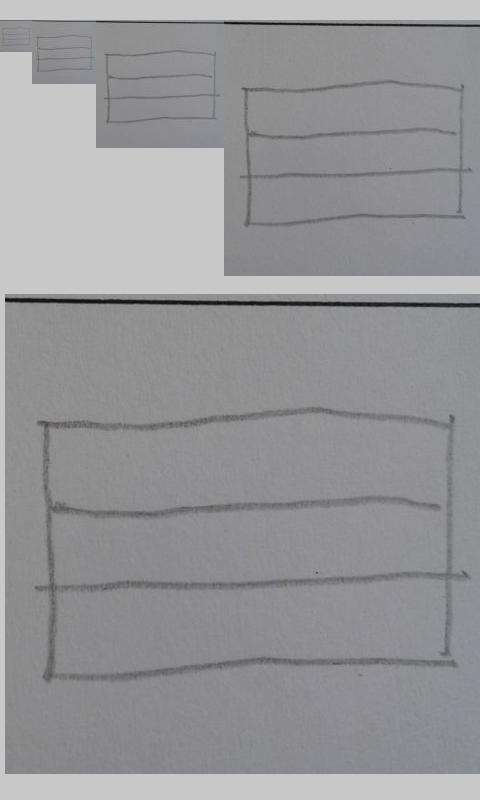list_view: (33, 402, 458, 680), (240, 78, 468, 230), (104, 49, 216, 124), (36, 34, 93, 73), (1, 26, 31, 46)
